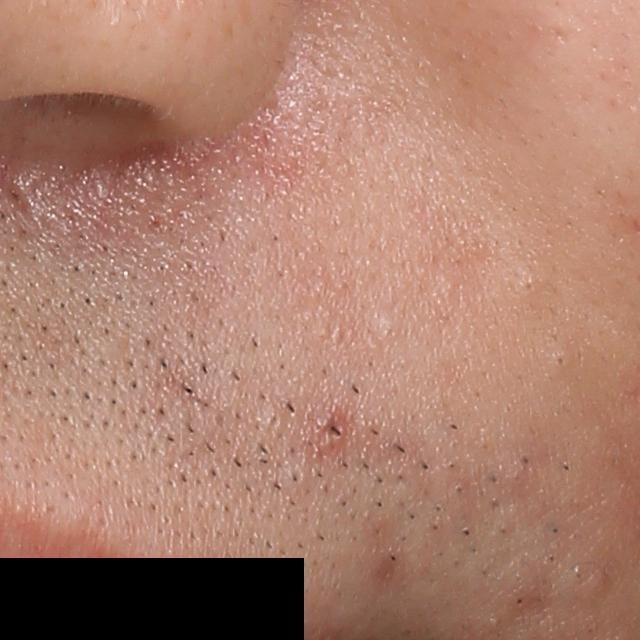comedo: (513, 273, 545, 298), (374, 312, 401, 339), (552, 351, 571, 373)
papule: (312, 412, 348, 454)
